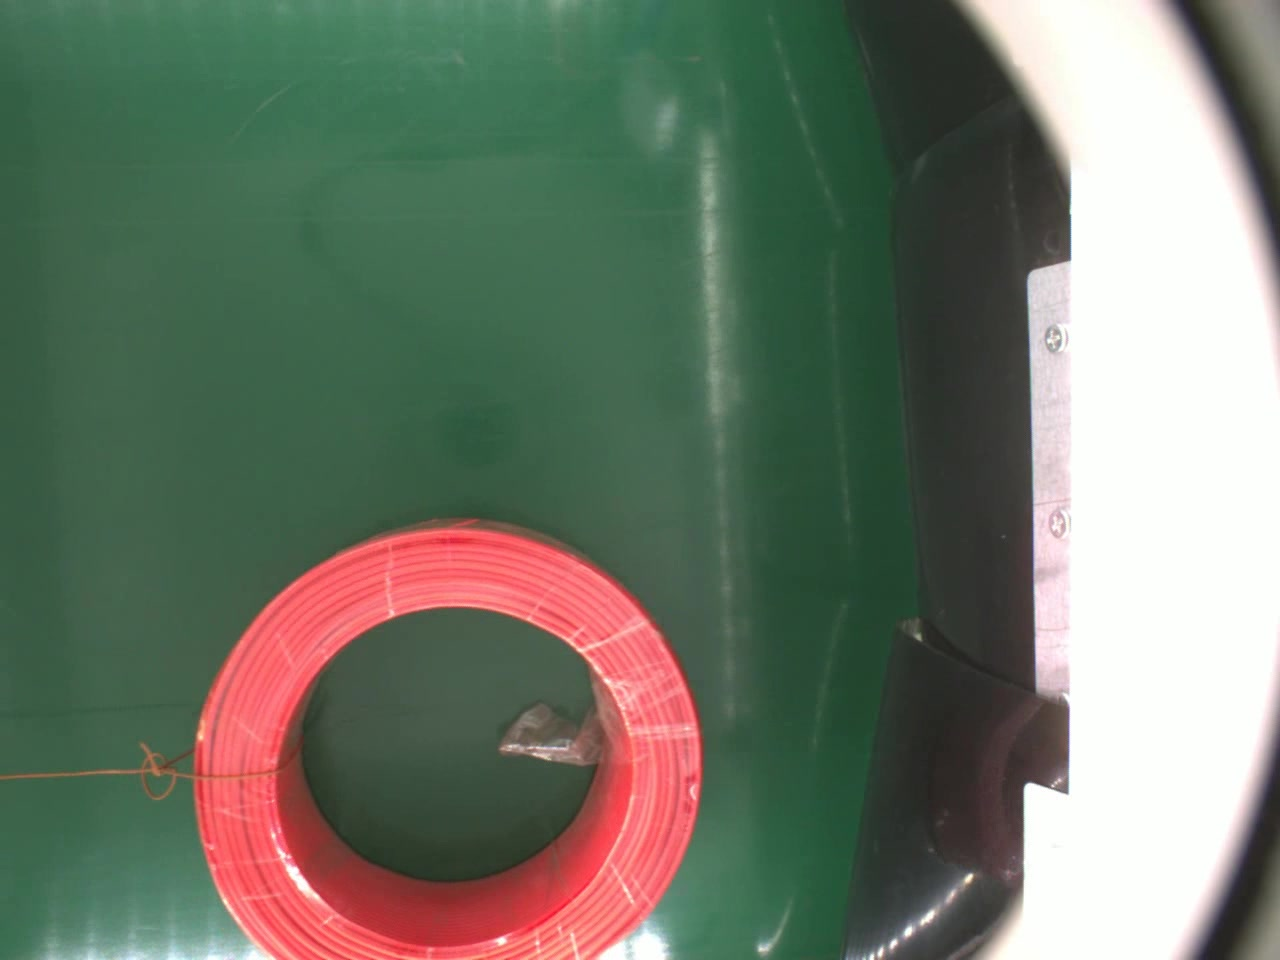red: (186, 513, 710, 960)
